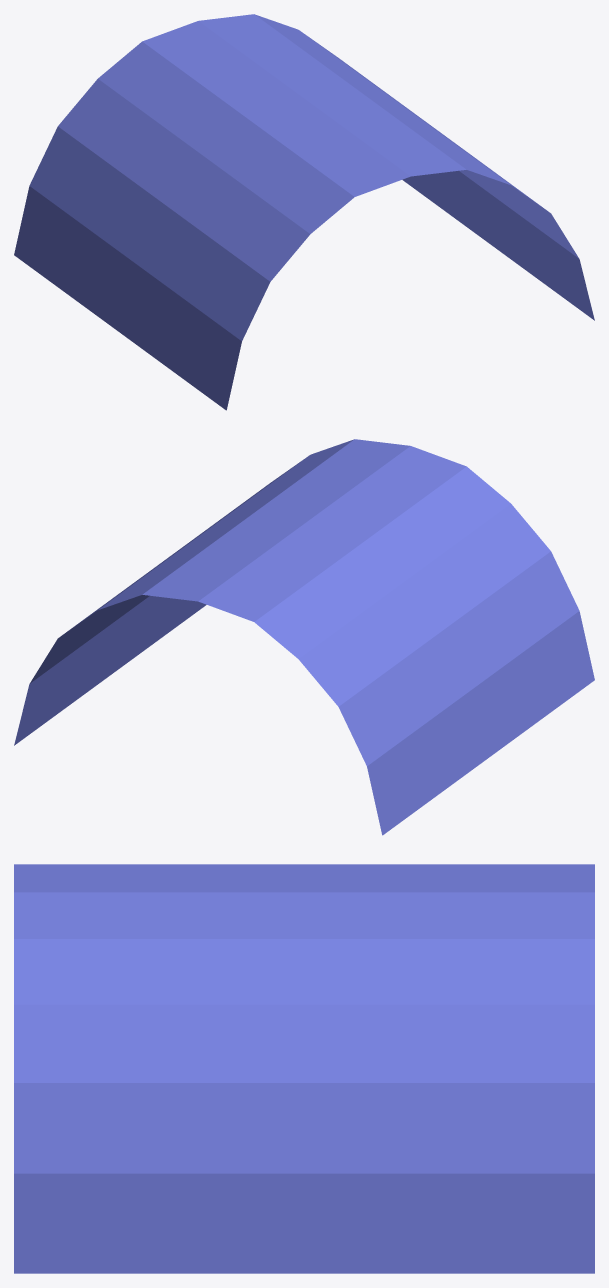
Rendered from Ceiling1x1_Straight.fbx.
3 views of the same model, one above another, from view 1: azimuth 30°, elevation 25°; view 2: azimuth 150°, elevation 25°; view 3: azimuth 270°, elevation 25° (orthographic). The views are drawn at different scales.
Visible parts, largest first — view 1: Plane.028; view 2: Plane.028; view 3: Plane.028.
Part boxes in pixels (left/top/right/bottom): Plane.028: left=14, top=14, right=594, bottom=410; Plane.028: left=14, top=439, right=594, bottom=835; Plane.028: left=14, top=864, right=594, bottom=1273.
Bounding box in the file's own units: 200 × 98.25 × 200.
